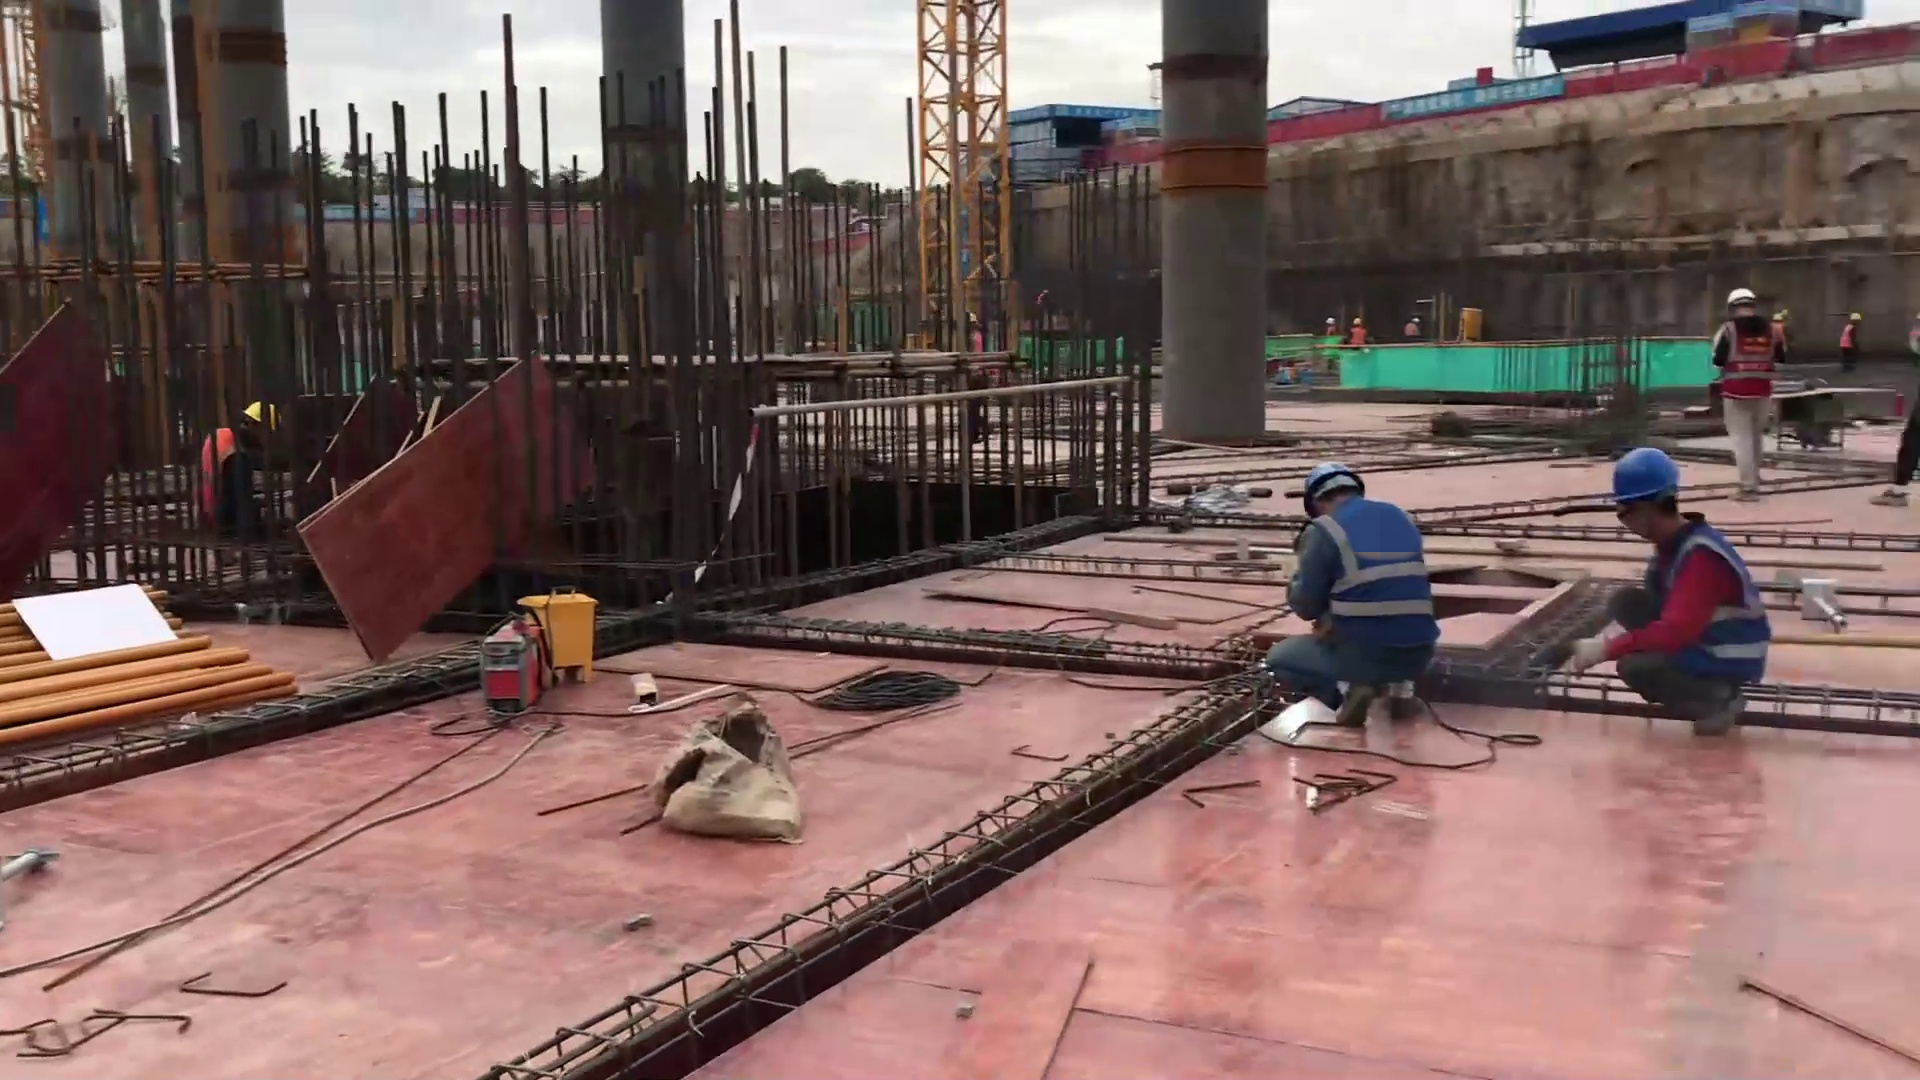ebox: (509, 581, 604, 661), (1458, 292, 1484, 332)
helmet: (1611, 446, 1684, 491), (1300, 461, 1369, 492), (240, 397, 279, 432), (1724, 281, 1757, 306), (964, 311, 981, 324), (1770, 312, 1784, 324), (1848, 314, 1863, 322), (1352, 317, 1362, 326), (1325, 317, 1335, 324), (1042, 288, 1050, 294), (1411, 318, 1420, 323)
person: (1579, 445, 1786, 745), (1271, 448, 1434, 738), (1708, 283, 1778, 490), (200, 385, 279, 551), (1861, 332, 1920, 512), (958, 308, 997, 441), (1837, 297, 1861, 373), (1771, 304, 1797, 362), (1403, 315, 1422, 345), (1350, 317, 1364, 346), (1036, 286, 1051, 310), (1324, 315, 1338, 335)
vest: (1296, 506, 1429, 645), (1654, 536, 1764, 686), (1724, 317, 1772, 398), (208, 436, 244, 511), (968, 328, 988, 380), (1772, 324, 1785, 352), (1838, 324, 1853, 348), (1353, 327, 1364, 346), (1405, 324, 1419, 335), (1035, 294, 1044, 305), (1326, 326, 1337, 334)
